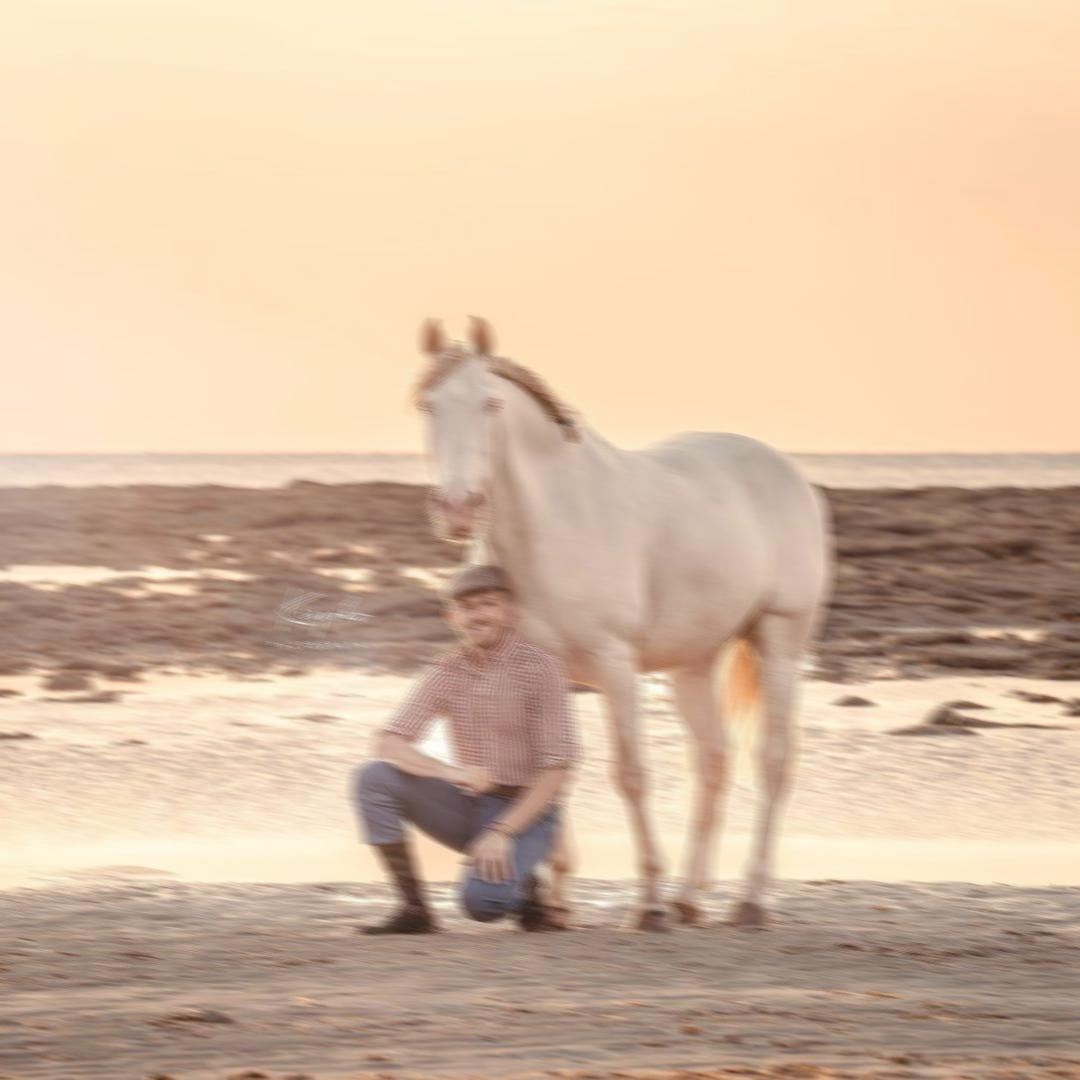horse: (406, 312, 833, 934)
